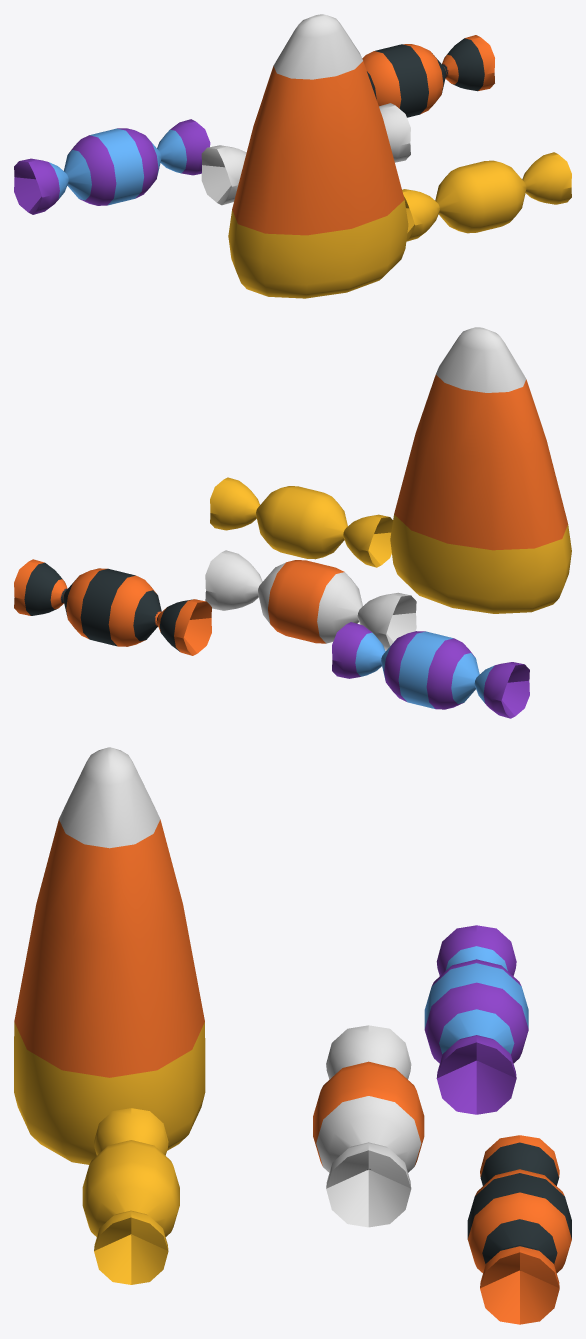
The model's file is candy-pile.glb.
The picture shows the model from 3 angles, top to bottom: view 1: azimuth 30°, elevation 25°; view 2: azimuth 150°, elevation 25°; view 3: azimuth 270°, elevation 25°; orthographic projection. The views are drawn at different scales.
Parts seen in each view (by area): view 1: candyA; view 2: candyA; view 3: candyA.
Boxes of the visible parts, <box> form: candyA: <box>14,14,571,298</box>; candyA: <box>14,327,571,718</box>; candyA: <box>14,747,571,1324</box>.
Bounding box in the file's own units: 1.81 × 0.945 × 1.29.
Materials: 1 (1 with a texture image).
